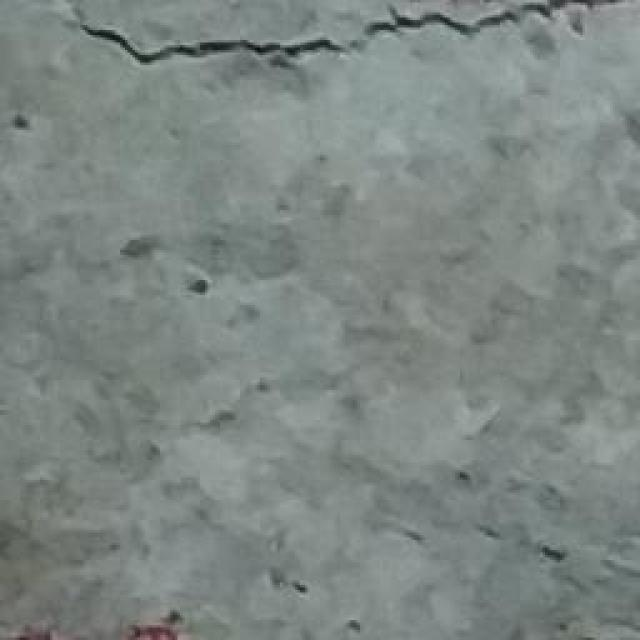Transverse: (63, 0, 640, 94)
